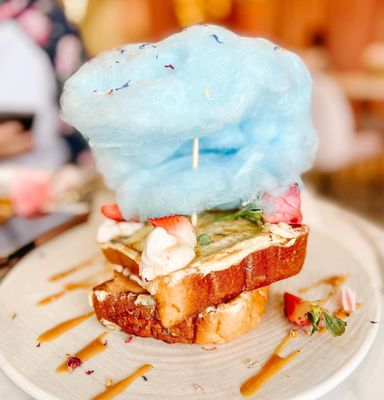sandwich: (0, 210, 90, 267)
soup: (51, 14, 323, 363)
